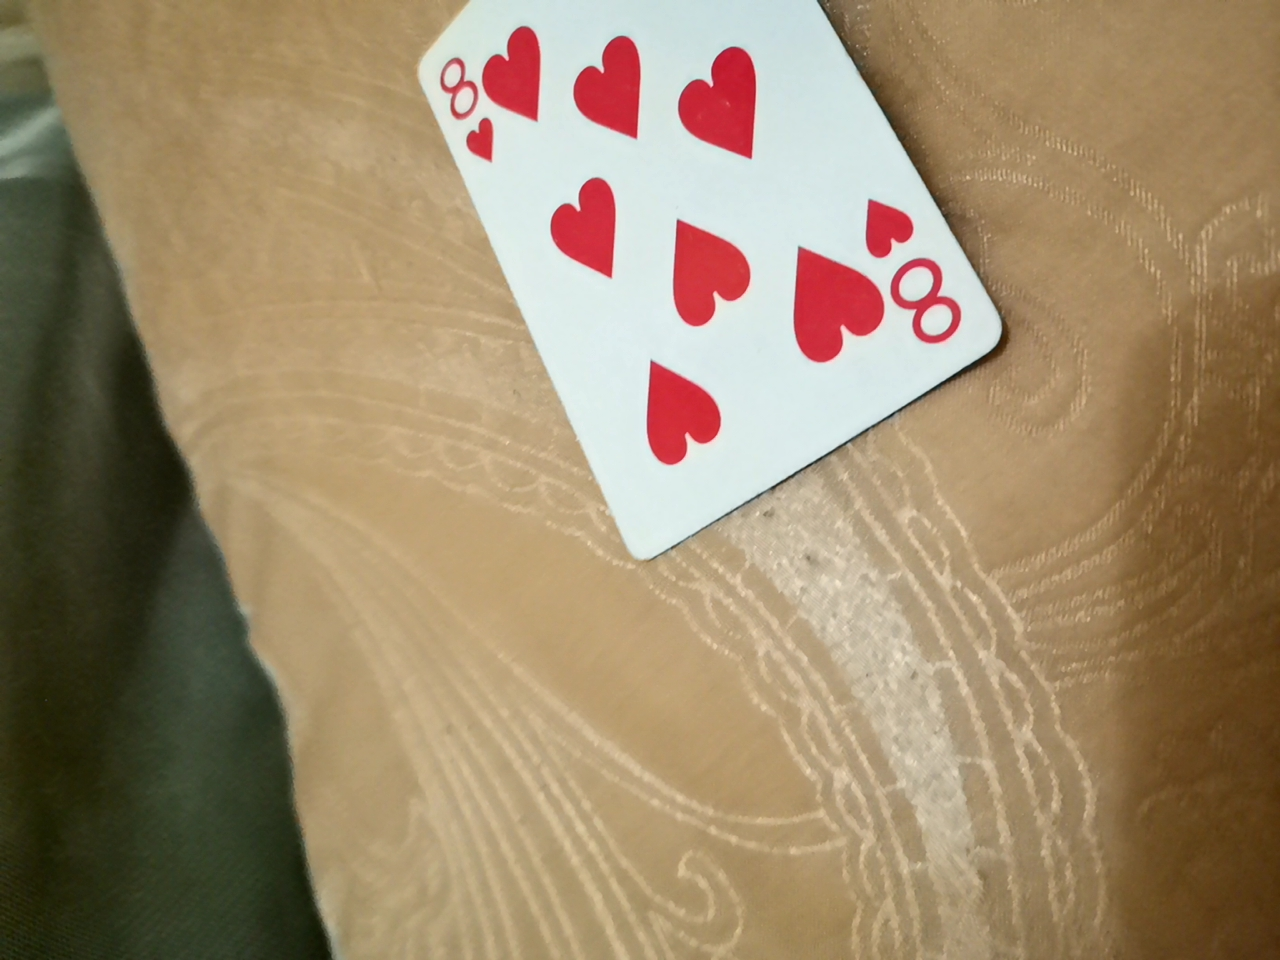hx 8: (381, 14, 986, 596)
